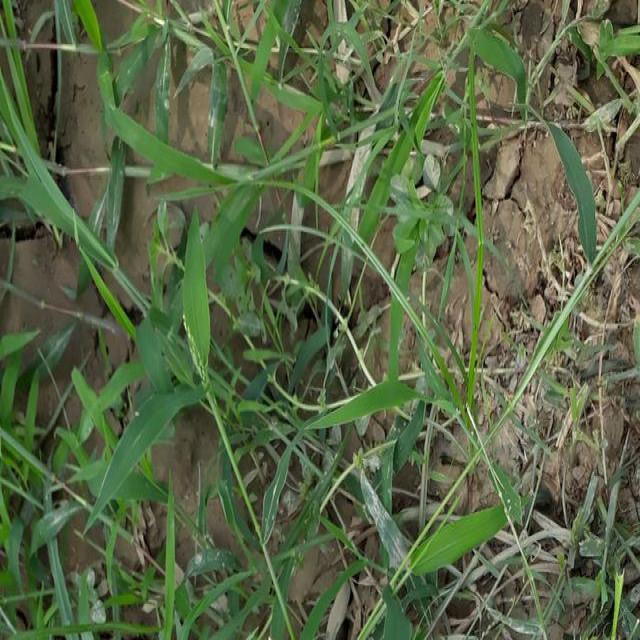weed: (106, 161, 430, 632)
